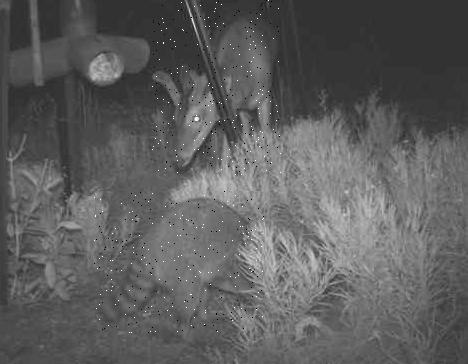Deer: (152, 0, 281, 175)
Raccoon: (91, 192, 264, 334)
